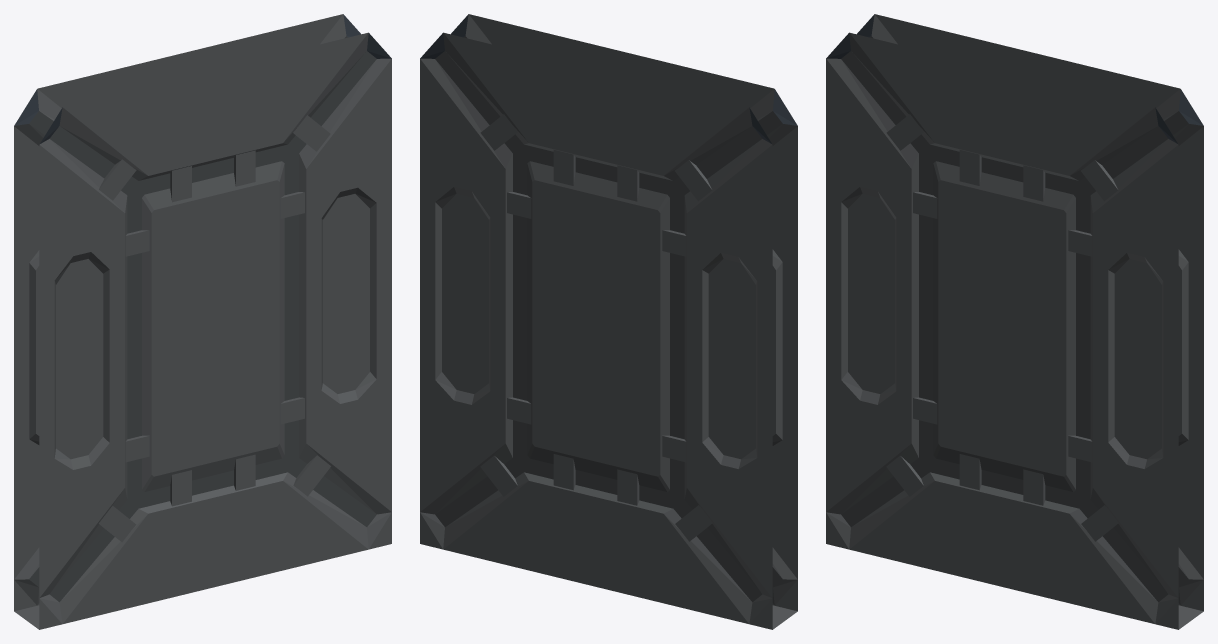
The model's file is DOOR.fbx.
3 views of the same model, side by side, from view 1: azimuth 30°, elevation 25°; view 2: azimuth 150°, elevation 25°; view 3: azimuth 330°, elevation 25° (orthographic).
Visible parts, largest first — view 1: Door; view 2: Door; view 3: Door.
Boxes of the visible parts, x1=… form: Door: x1=14, y1=14, x2=391, y2=629; Door: x1=420, y1=14, x2=797, y2=629; Door: x1=826, y1=14, x2=1203, y2=629.
Size of the model in its own units: 1.5 by 2.11 by 0.1875.
